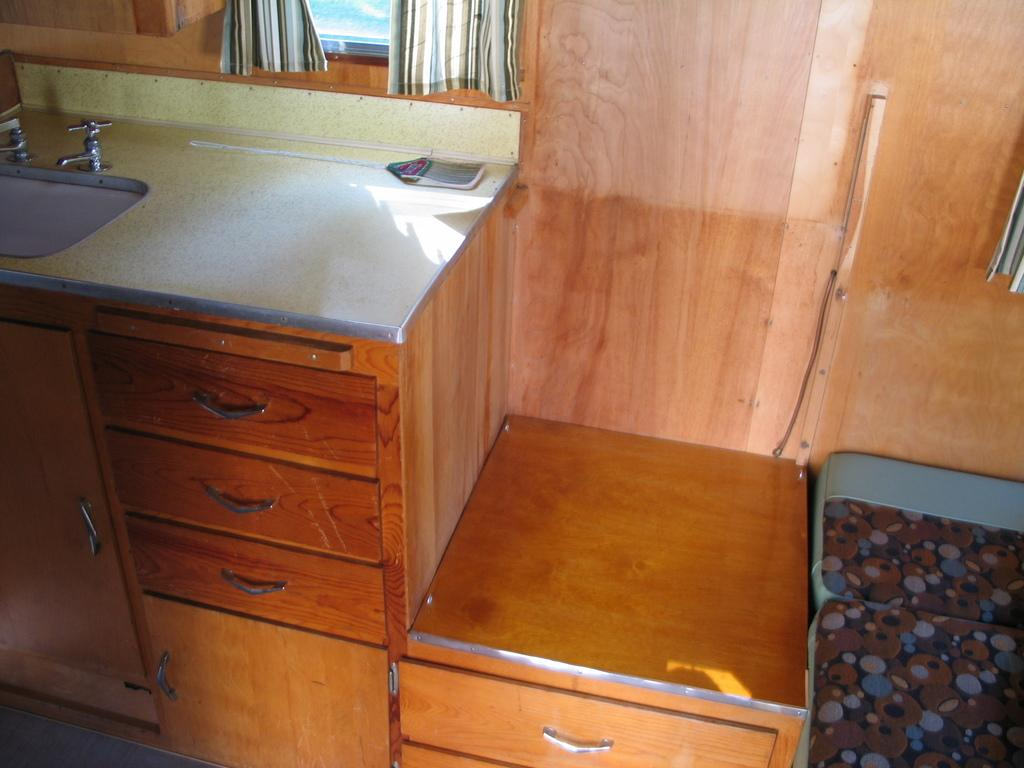cabinet_door: (132, 586, 386, 768), (398, 662, 778, 768), (0, 322, 110, 670), (106, 330, 386, 460), (114, 438, 396, 550), (128, 525, 394, 641)
handle: (198, 477, 282, 524), (225, 563, 296, 608), (191, 395, 281, 430), (534, 726, 616, 762), (72, 500, 104, 568), (154, 642, 178, 708)
